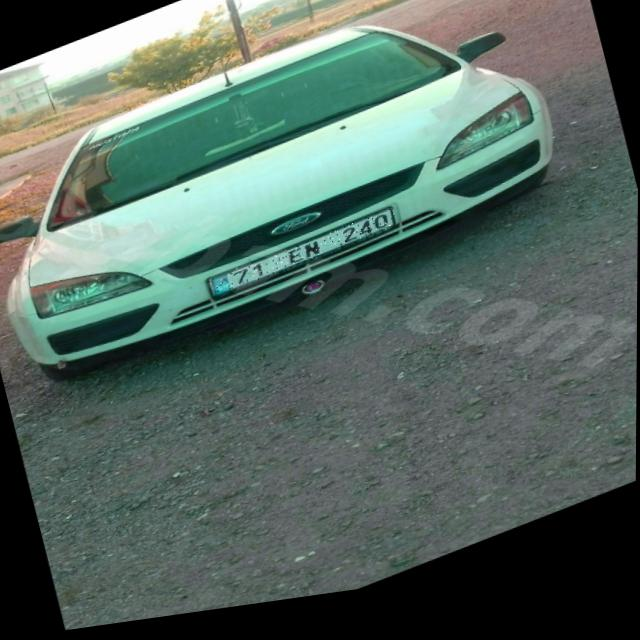license_plate: (208, 218, 397, 303)
